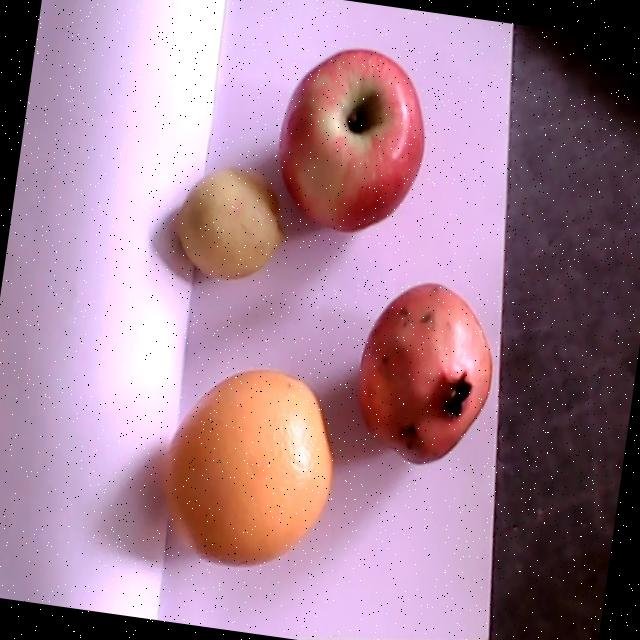apple: (274, 54, 426, 236)
lemon: (171, 168, 284, 279)
orange: (159, 369, 332, 569)
pomegranate: (359, 282, 493, 463)
